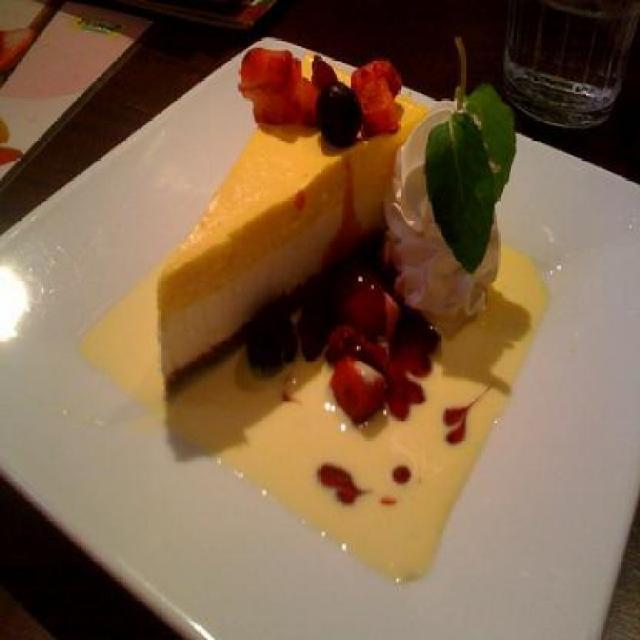Rare cheese cake: (112, 41, 522, 510)
